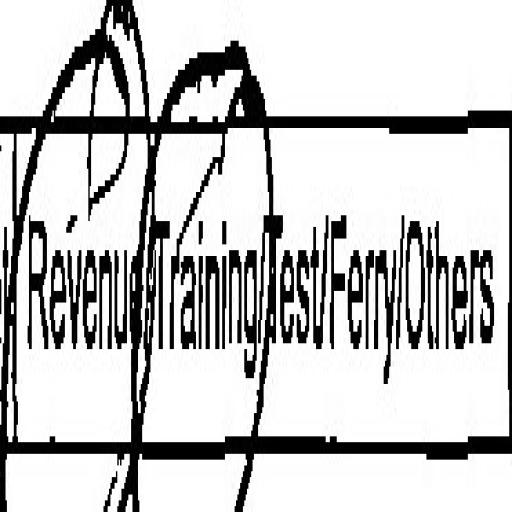check: (3, 4, 143, 512), (147, 0, 264, 512)
